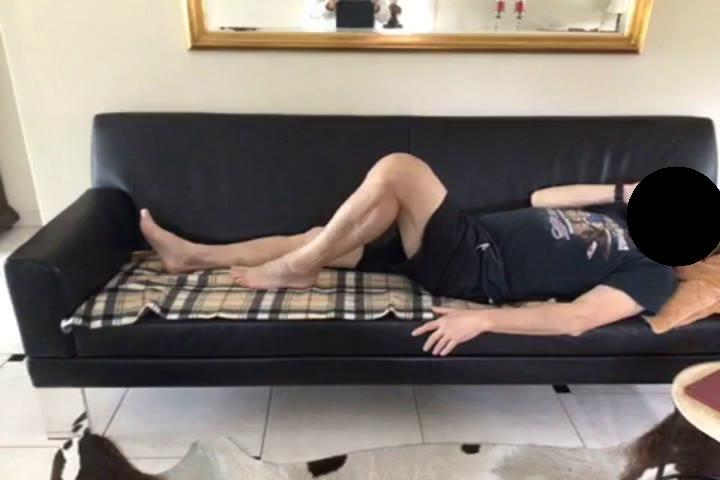lower_body: (139, 151, 494, 300)
